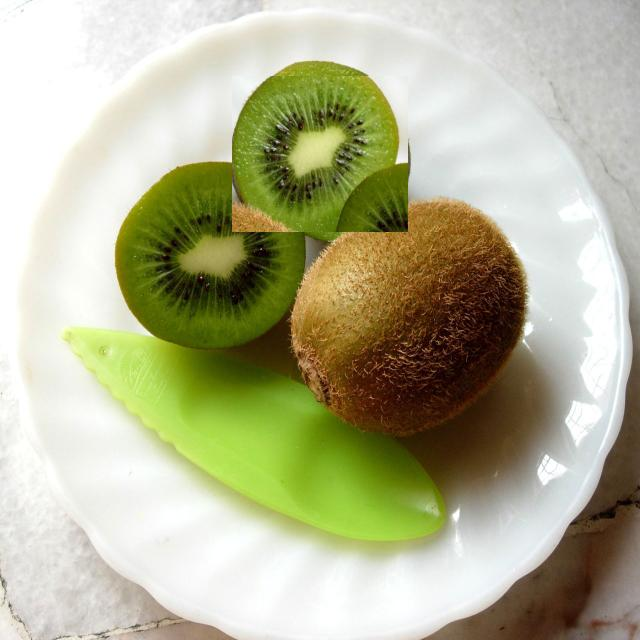Qiwi: (282, 182, 550, 438), (135, 180, 300, 359), (232, 76, 408, 232)
